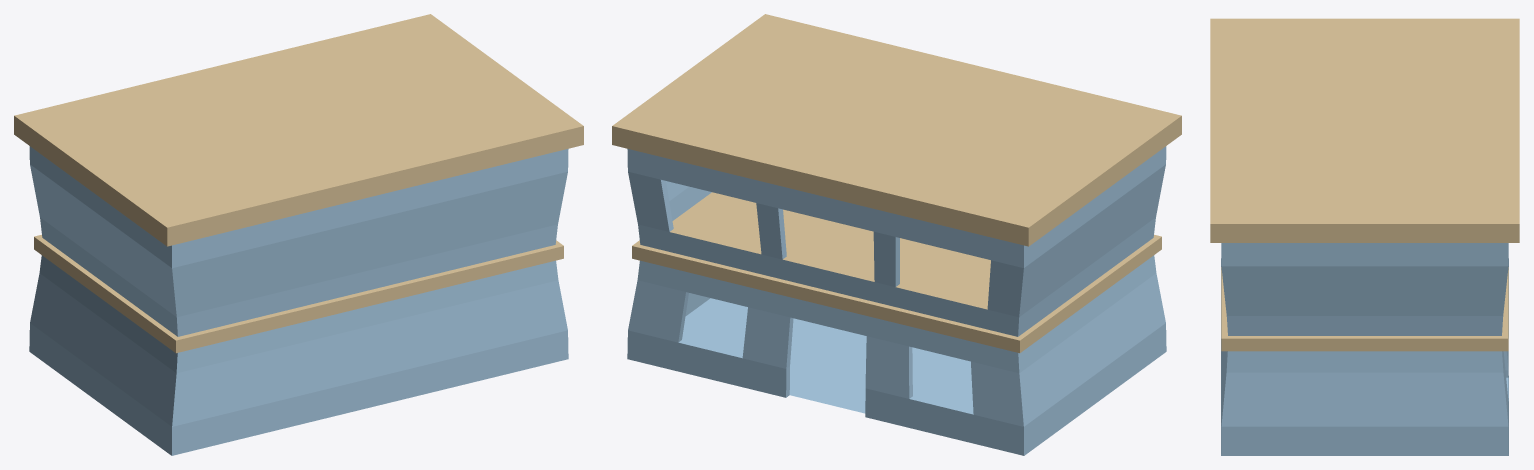
The model's file is Bld_R_med_L4_C.fbx.
3 renders of one model, left to right at view 1: azimuth 30°, elevation 25°; view 2: azimuth 150°, elevation 25°; view 3: azimuth 270°, elevation 25°, orthographic.
Parts seen in each view (by area): view 1: Bld_R_med_L4_C_LOD0; view 2: Bld_R_med_L4_C_LOD0; view 3: Bld_R_med_L4_C_LOD0.
Part boxes in pixels (box(x1,y1,x2,y2)): Bld_R_med_L4_C_LOD0: box(14, 14, 583, 455); Bld_R_med_L4_C_LOD0: box(612, 14, 1181, 455); Bld_R_med_L4_C_LOD0: box(1210, 18, 1519, 455).
Size of what is drawn, in the model's own units: 2200 by 1493 by 1400.
1 material, 1 textured.
